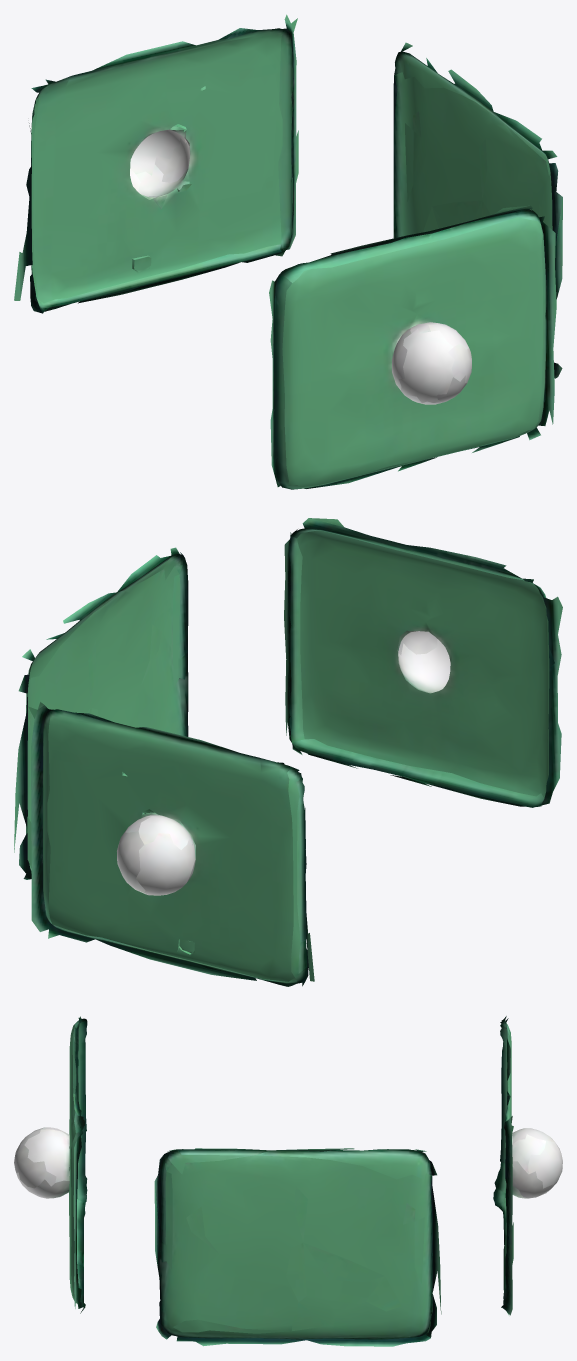
File: drawer_top_right.glb
3 views of the same model, one above another, from view 1: azimuth 30°, elevation 25°; view 2: azimuth 150°, elevation 25°; view 3: azimuth 270°, elevation 25° (orthographic). The views are drawn at different scales.
Visible parts, largest first — view 1: geometry_0; view 2: geometry_0; view 3: geometry_0.
Boxes of the visible parts, box(x1,y1,x2,y2) form: geometry_0: box(14, 14, 562, 489); geometry_0: box(14, 518, 562, 986); geometry_0: box(14, 1016, 562, 1346).
Bounding box in the file's own units: 0.1231 × 0.0829 × 0.198.
1 material, 1 textured.
